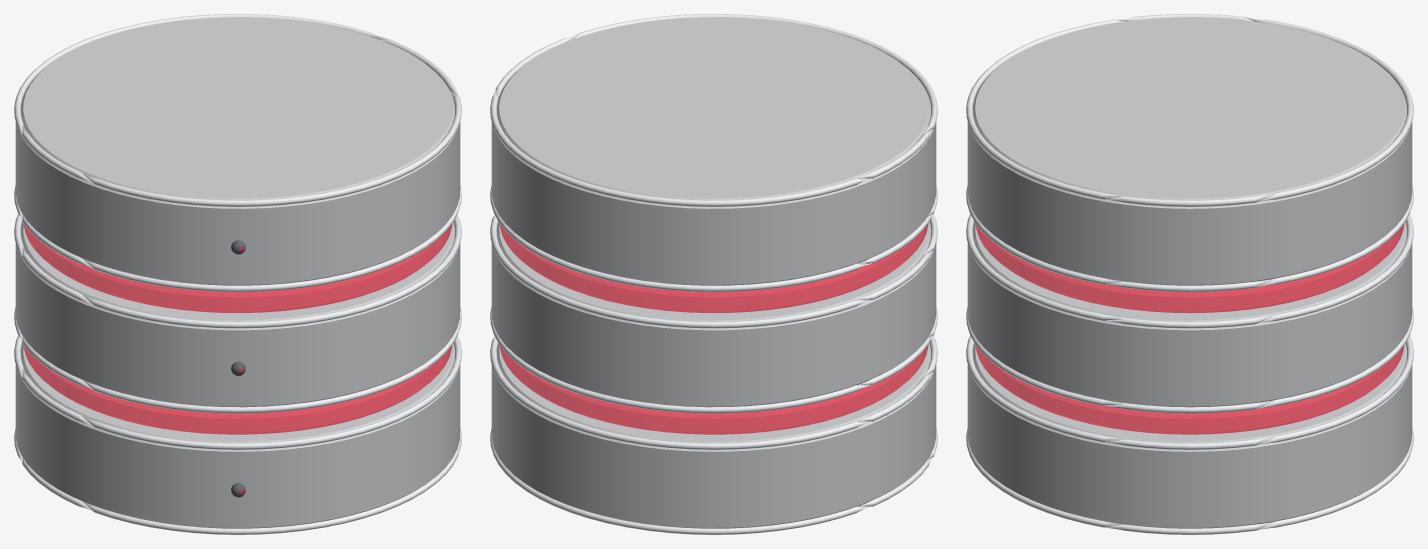
Rendered from 11-database.glb.
3 renders of one model, left to right at view 1: azimuth 30°, elevation 25°; view 2: azimuth 150°, elevation 25°; view 3: azimuth 270°, elevation 25°, orthographic.
Visible parts, largest first — view 1: BC satin iron, BC polished iron bevel, BC ruby optical glass, BC recessed iron; view 2: BC satin iron, BC polished iron bevel, BC ruby optical glass; view 3: BC satin iron, BC polished iron bevel, BC ruby optical glass.
Boxes of the visible parts, left/top/right/bottom form: BC satin iron: left=15, top=17, right=460, bottom=528; BC polished iron bevel: left=14, top=14, right=461, bottom=534; BC ruby optical glass: left=23, top=224, right=452, bottom=495; BC recessed iron: left=231, top=240, right=245, bottom=497; BC satin iron: left=491, top=17, right=936, bottom=528; BC polished iron bevel: left=490, top=14, right=937, bottom=534; BC ruby optical glass: left=499, top=224, right=928, bottom=434; BC satin iron: left=967, top=17, right=1412, bottom=528; BC polished iron bevel: left=966, top=14, right=1413, bottom=534; BC ruby optical glass: left=976, top=224, right=1403, bottom=434.
Size of the model in its own units: 1.47 by 1.21 by 1.47.
